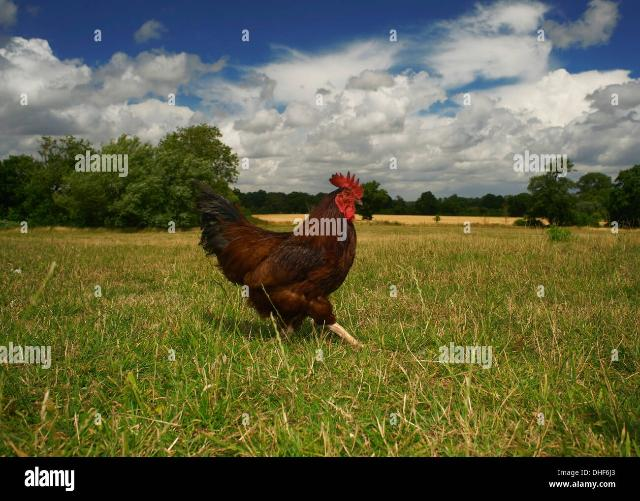Chicken: (192, 170, 370, 347)
